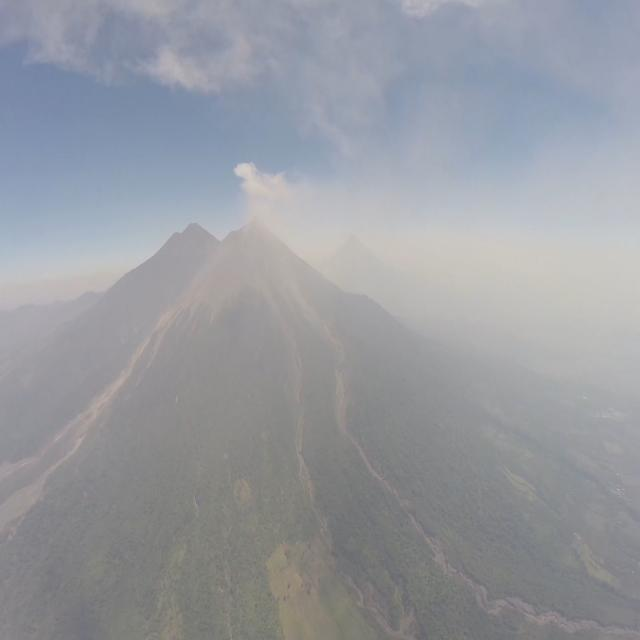Plume: (234, 156, 296, 228)
Summit: (234, 212, 283, 236)
